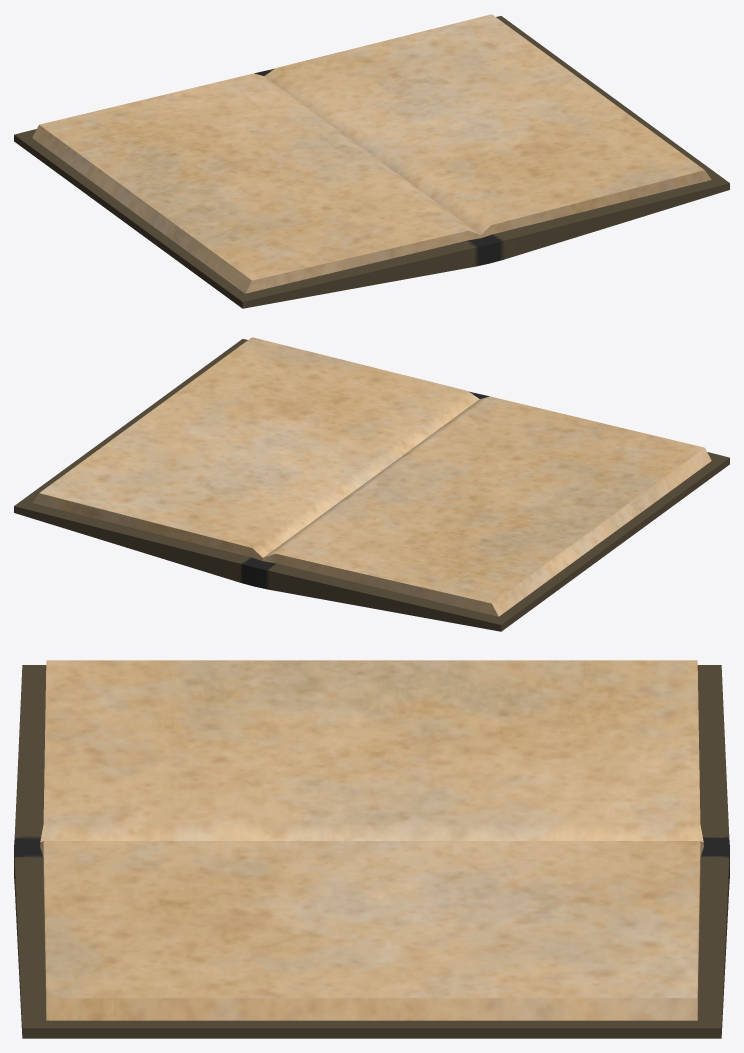
Rendered from book.glb.
3 renders of one model, top to bottom at view 1: azimuth 30°, elevation 25°; view 2: azimuth 150°, elevation 25°; view 3: azimuth 270°, elevation 25°, orthographic. The views are drawn at different scales.
Visible parts, largest first — view 1: defaultMaterial; view 2: defaultMaterial; view 3: defaultMaterial.
Boxes of the visible parts, x1,y1,x2,y2 form: defaultMaterial: (14,14,729,308); defaultMaterial: (14,337,729,631); defaultMaterial: (14,660,729,1038).
Bounding box in the file's own units: 2.32 × 0.1395 × 1.93.
Materials: 1 (1 with a texture image).
